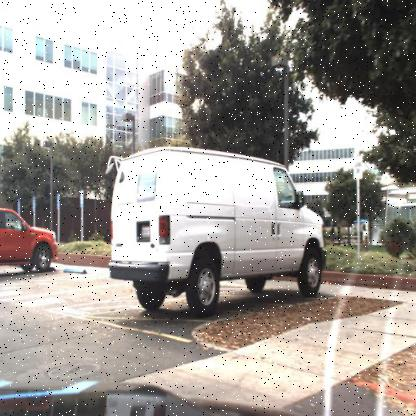car: (104, 144, 326, 318), (0, 205, 59, 278)
truck: (102, 139, 330, 323)
